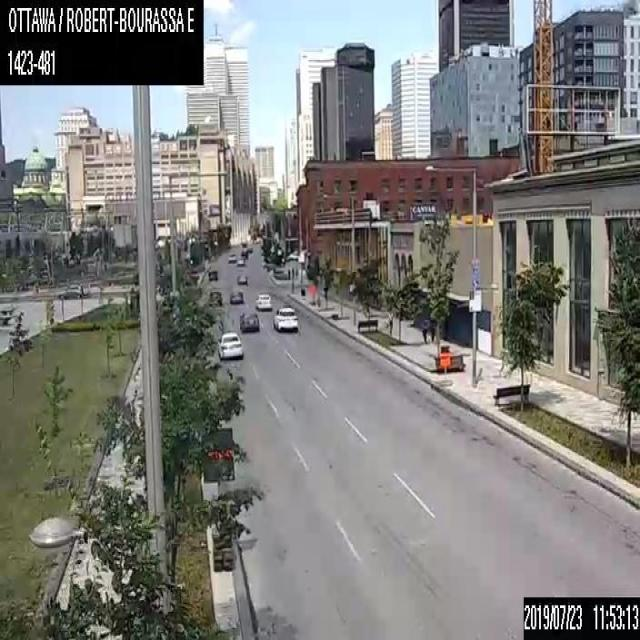construction: (200, 427, 234, 570), (438, 349, 451, 384)
pedestrian: (421, 317, 428, 344), (386, 307, 392, 333)
vehicle: (216, 331, 243, 360), (273, 305, 298, 331), (239, 308, 259, 331), (254, 292, 271, 308), (228, 289, 245, 304), (208, 286, 223, 302), (236, 272, 248, 284), (208, 268, 218, 280), (236, 255, 246, 265), (227, 253, 236, 263)
